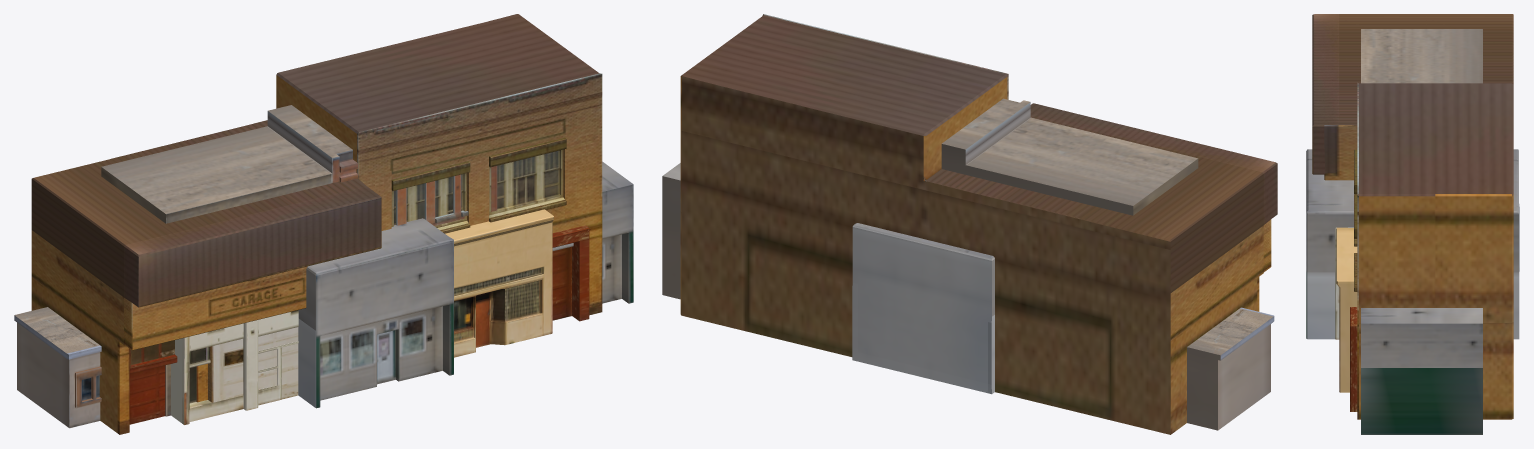
Rendered from street.glb.
3 renders of one model, left to right at view 1: azimuth 30°, elevation 25°; view 2: azimuth 150°, elevation 25°; view 3: azimuth 270°, elevation 25°, orthographic. The views are drawn at different scales.
Visible parts, largest first — view 1: Block - Garage_13, Block - Red brick + Beige Brick + Zinc Block + Self Con_15, Block - Zinc Building_14, Block - White + Amber_11; view 2: Block - Garage_13, Block - Red brick + Beige Brick + Zinc Block + Self Con_15, Block - Zinc Building_14; view 3: Block - Garage_13, Block - Red brick + Beige Brick + Zinc Block + Self Con_15, Block - Zinc Building_14, Block - White + Amber_11.
Boxes of the visible parts, bbox=[...] form: Block - Garage_13: bbox=[31, 14, 602, 434]; Block - Red brick + Beige Brick + Zinc Block + Self Con_15: bbox=[14, 105, 633, 428]; Block - Zinc Building_14: bbox=[298, 218, 453, 408]; Block - White + Amber_11: bbox=[171, 209, 553, 424]; Block - Garage_13: bbox=[680, 14, 1277, 434]; Block - Red brick + Beige Brick + Zinc Block + Self Con_15: bbox=[662, 98, 1274, 430]; Block - Zinc Building_14: bbox=[852, 223, 994, 394]; Block - Garage_13: bbox=[1312, 14, 1513, 419]; Block - Red brick + Beige Brick + Zinc Block + Self Con_15: bbox=[1361, 29, 1482, 434]; Block - Zinc Building_14: bbox=[1306, 149, 1519, 339]; Block - White + Amber_11: bbox=[1335, 227, 1357, 392].
Bounding box in the file's own units: 4.55 × 1.87 × 1.61.
16 materials, 16 textured.
